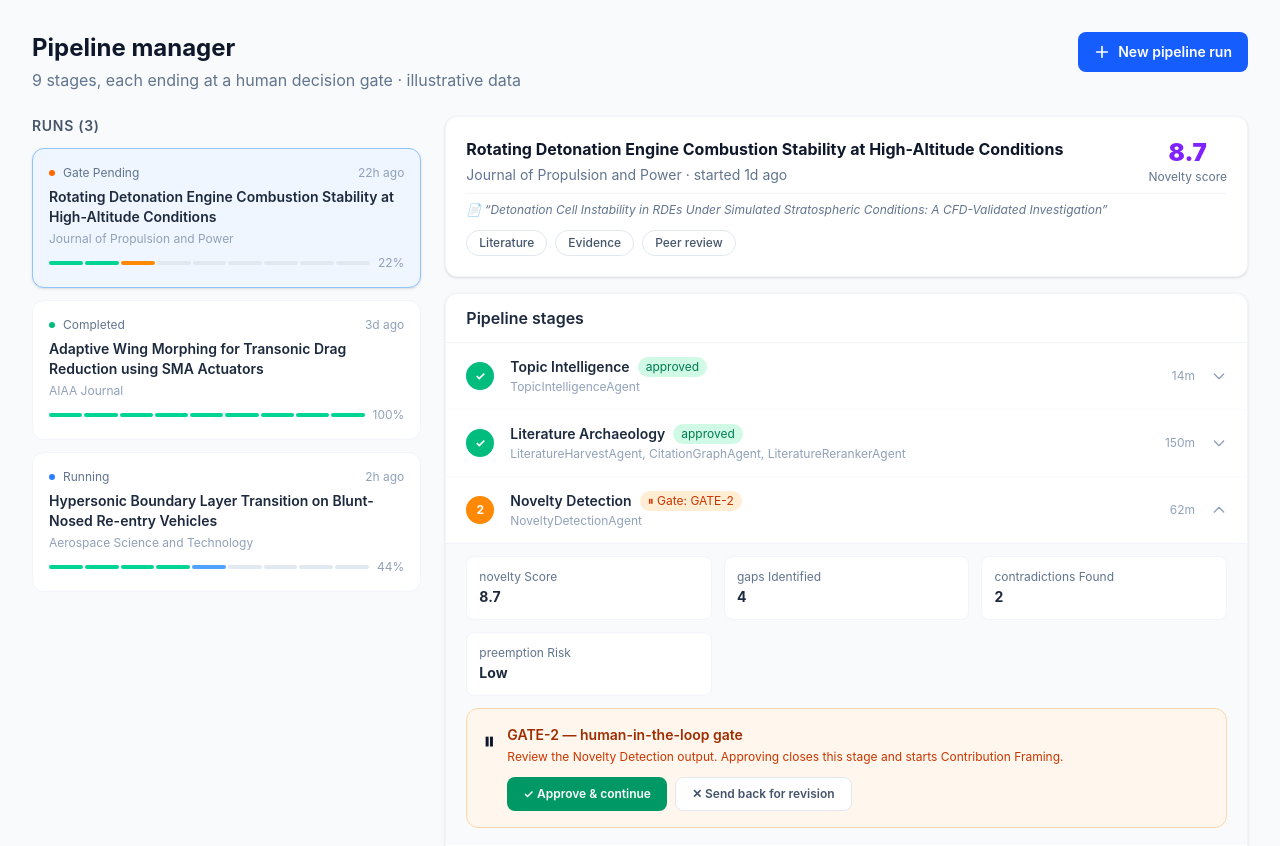
PipelineView gate handling › closes the gate and starts the next stage without mutating the fixture data
Expected: the text "⏸ Gate: GATE-2" is shown, [640, 491, 742, 511]
# The gate stage is expanded by default because it is the run's current stage.
Click the button "✓ Approve & continue" at (587, 794), box [507, 777, 667, 811]
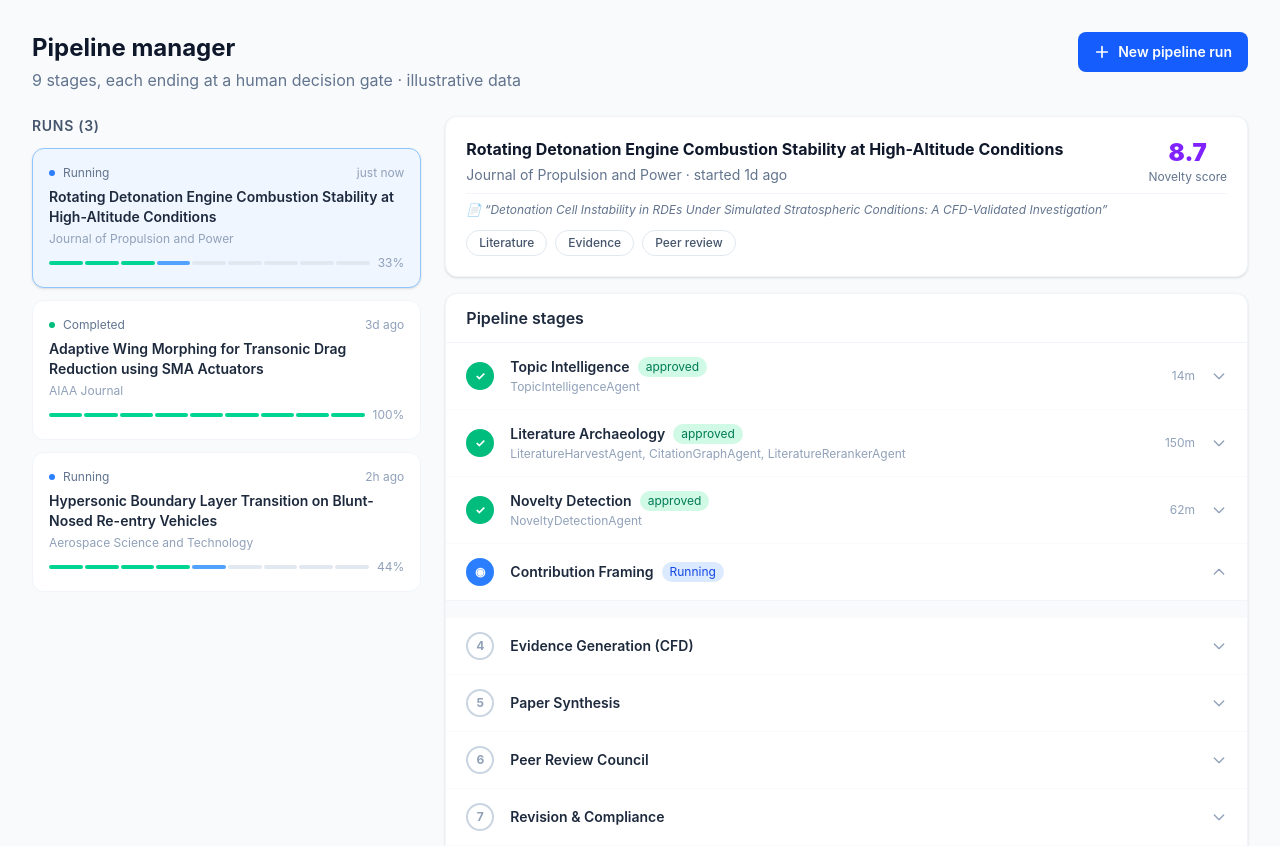
Expected: the text "Gate: GATE-2" is gone
